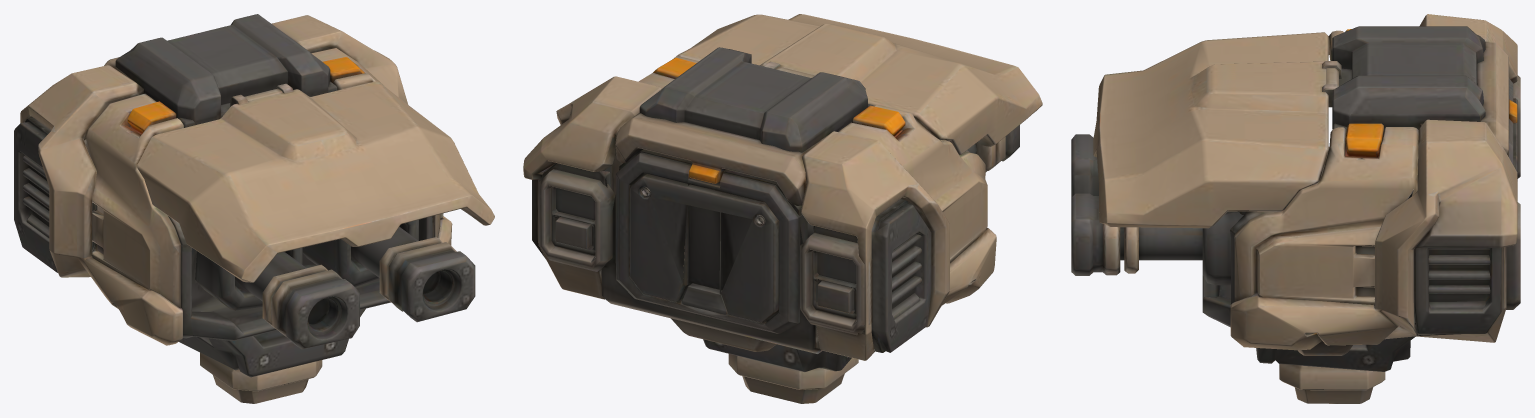
File: 15_WPN_Twin_Sub_Pod.glb
3 views of the same model, side by side, from view 1: azimuth 30°, elevation 25°; view 2: azimuth 150°, elevation 25°; view 3: azimuth 270°, elevation 25° (orthographic). The views are drawn at different scales.
Parts seen in each view (by area): view 1: 15_WPN_Twin_Sub_Pod; view 2: 15_WPN_Twin_Sub_Pod; view 3: 15_WPN_Twin_Sub_Pod.
Boxes of the visible parts, left/top/right/bottom form: 15_WPN_Twin_Sub_Pod: left=14, top=14, right=494, bottom=403; 15_WPN_Twin_Sub_Pod: left=523, top=14, right=1042, bottom=403; 15_WPN_Twin_Sub_Pod: left=1071, top=14, right=1520, bottom=403.
Bounding box in the file's own units: 0.9712 × 0.811 × 0.9995.
1 material, 1 textured.
